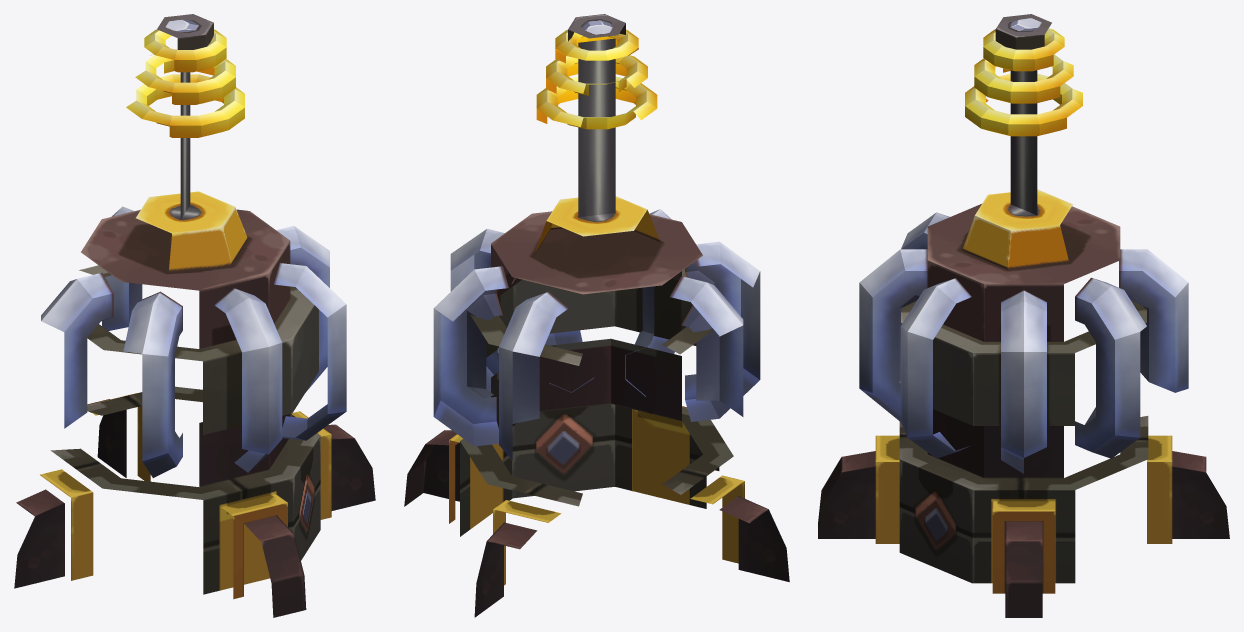
Rendered from B_Lightningtower05.fbx.
The picture shows the model from 3 angles, left to right: view 1: azimuth 30°, elevation 25°; view 2: azimuth 150°, elevation 25°; view 3: azimuth 270°, elevation 25°; orthographic projection. The views are drawn at different scales.
Visible parts, largest first — view 1: B_Lightningtower05_01; view 2: B_Lightningtower05_01; view 3: B_Lightningtower05_01.
Boxes of the visible parts, left/top/right/bottom form: B_Lightningtower05_01: left=14, top=14, right=375, bottom=617; B_Lightningtower05_01: left=404, top=14, right=789, bottom=617; B_Lightningtower05_01: left=818, top=14, right=1229, bottom=617.
Size of the model in its own units: 4.76 by 6.44 by 4.76.
Materials: 1 (1 with a texture image).
